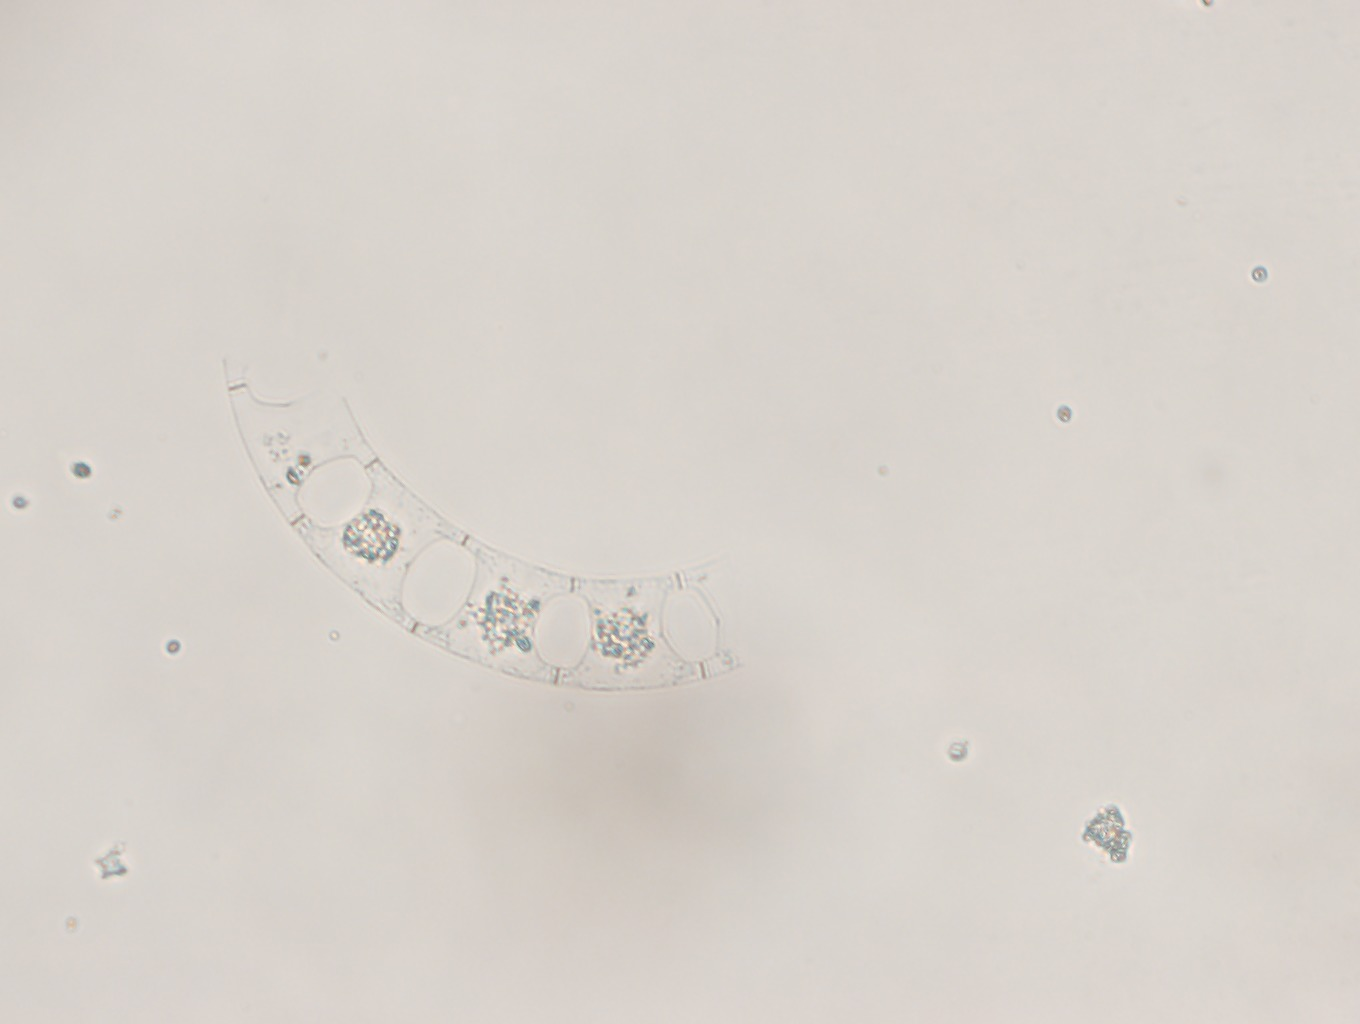eucampia: (206, 333, 788, 702)
